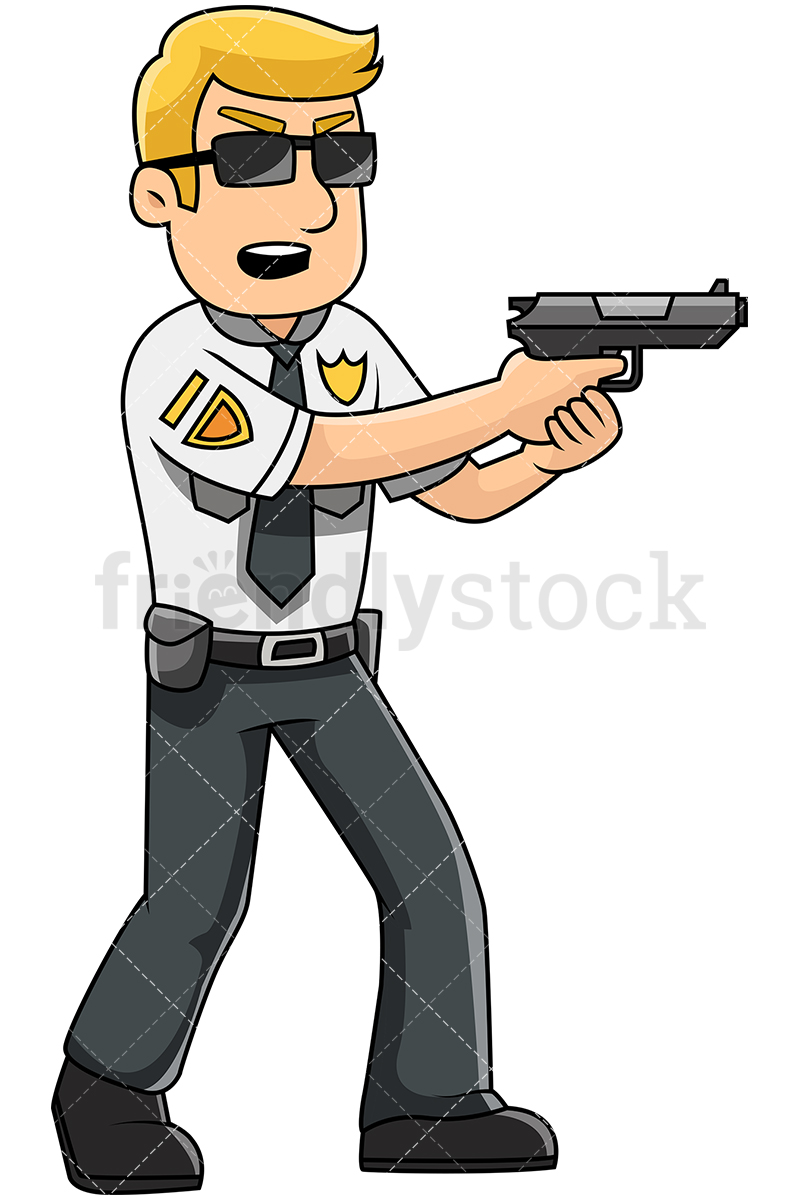pistol: (473, 268, 770, 484)
